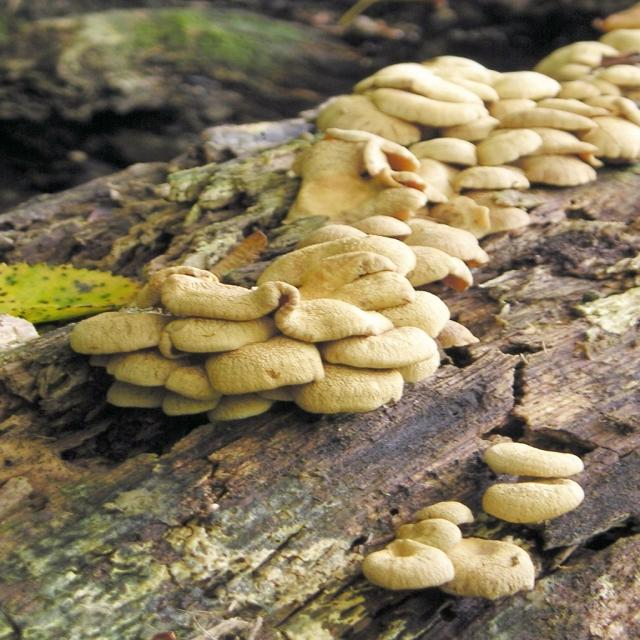Mushroom: (67, 268, 434, 427), (278, 125, 494, 330), (297, 68, 502, 249), (480, 59, 589, 208), (540, 3, 637, 160), (440, 540, 534, 596), (365, 536, 453, 594), (487, 436, 592, 481), (487, 478, 579, 526), (390, 520, 460, 555), (406, 504, 466, 530)
